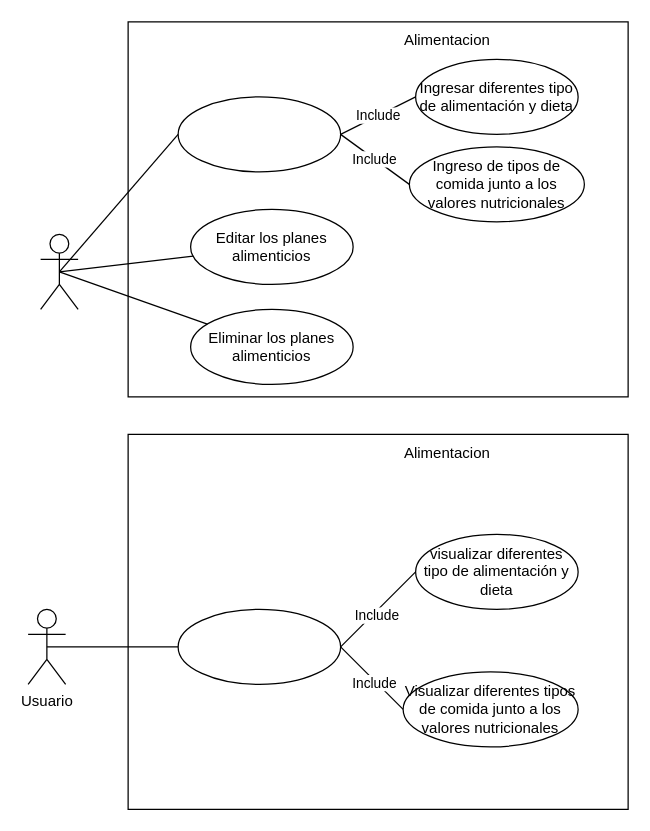
Some shapes in this 650 by 831 pixel diagram are drawn without their labels. The centre of each missing label's shape, as x and y in pixels:
"Admin" belongs at [58,271].
"Crear planes alimenticios" belongs at [259,134].
"Ingresar a los planes alimenticios" belongs at [259,646].
